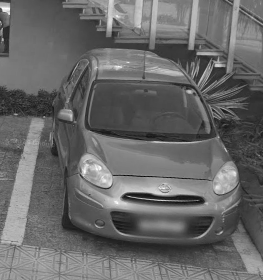car: (49, 48, 245, 253)
